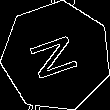N_E: (26, 29, 87, 84)
